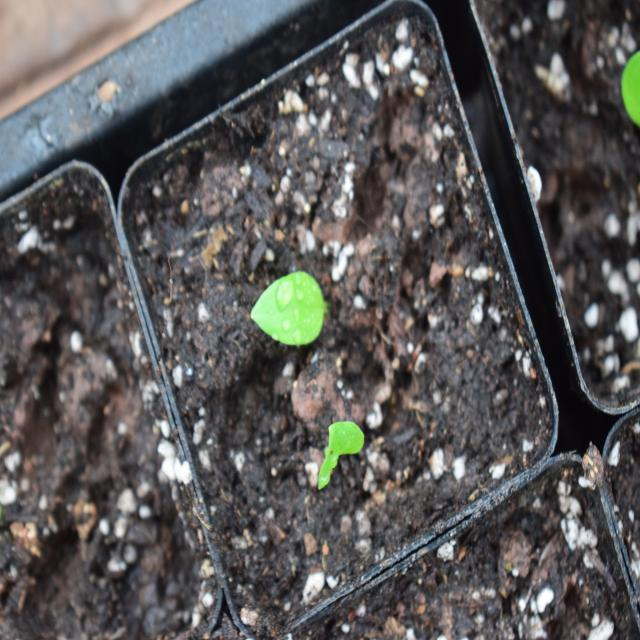Common Dayflower: (245, 260, 340, 354)
